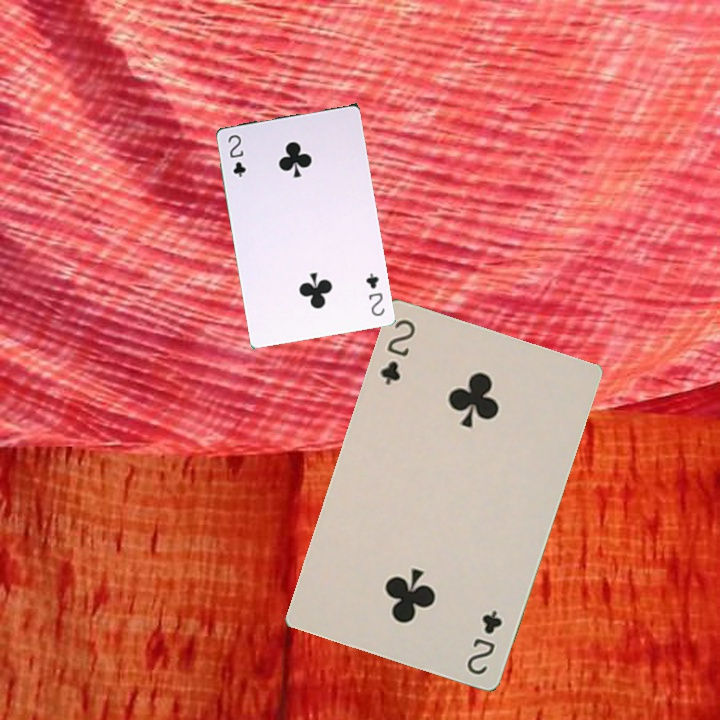2c: (462, 606, 505, 678), (376, 315, 418, 388), (362, 269, 387, 319), (224, 130, 249, 180)
